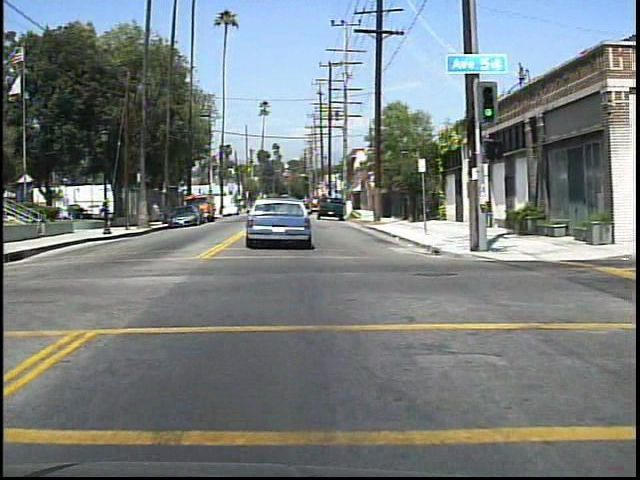person: (152, 204, 166, 230), (120, 195, 132, 218), (101, 198, 108, 220)
